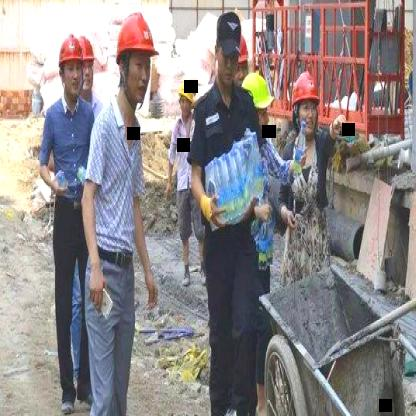head: (211, 9, 243, 93)
helmet: (116, 10, 160, 106), (292, 68, 320, 136), (60, 25, 84, 103), (78, 32, 94, 99), (178, 77, 195, 119)
